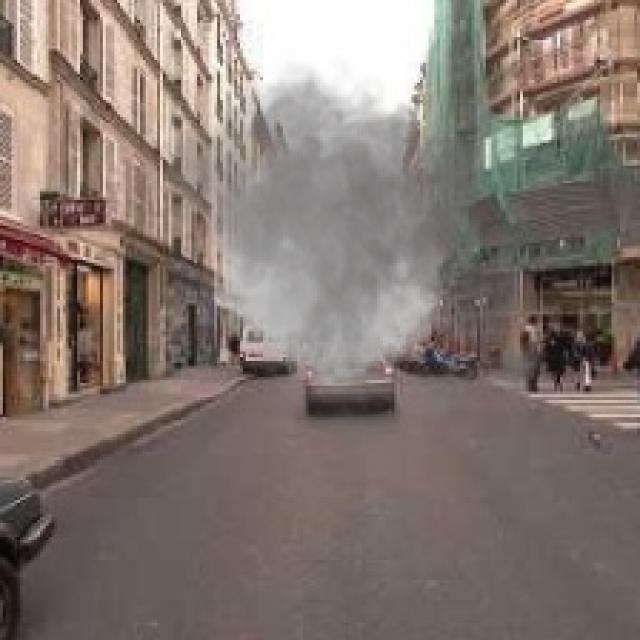smoke: (149, 48, 557, 463)
